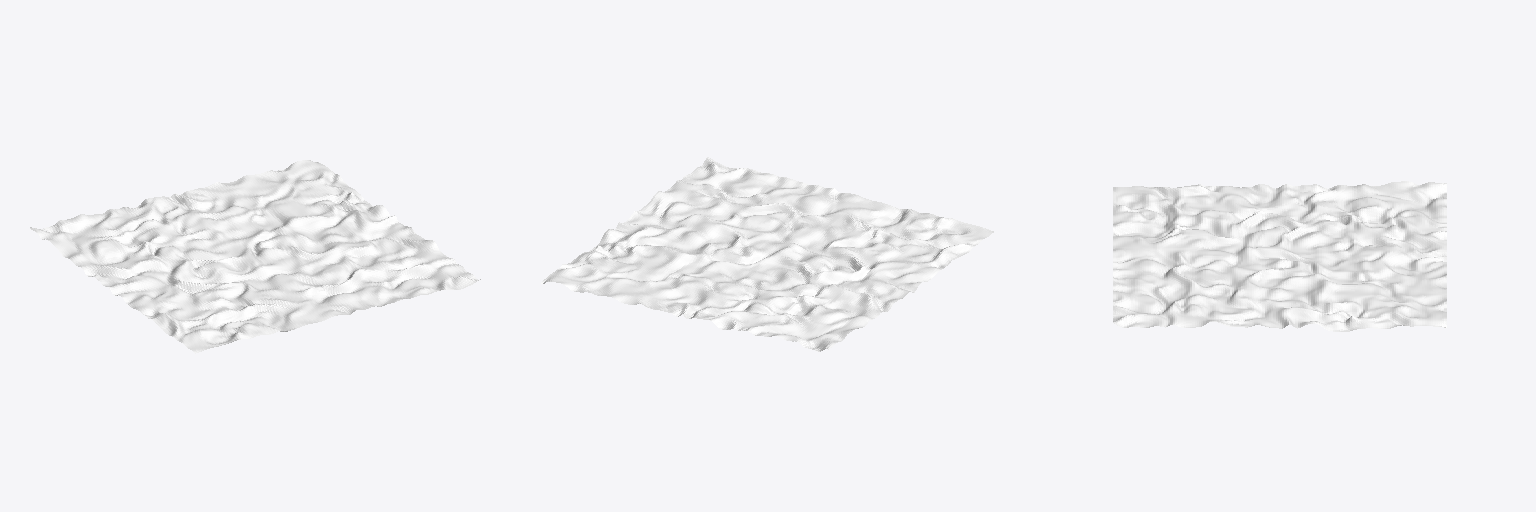
The model's file is fishesInSeaScene.obj.
3 views of the same model, side by side, from view 1: azimuth 30°, elevation 25°; view 2: azimuth 150°, elevation 25°; view 3: azimuth 270°, elevation 25° (orthographic).
Visible parts, largest first — view 1: Piano.001; view 2: Piano.001; view 3: Piano.001.
Boxes of the visible parts, x1,y1,x2,y2 form: Piano.001: [30, 160, 480, 353]; Piano.001: [541, 157, 993, 351]; Piano.001: [1113, 181, 1446, 331].
Bounding box in the file's own units: 8.26 × 0.2809 × 8.26.